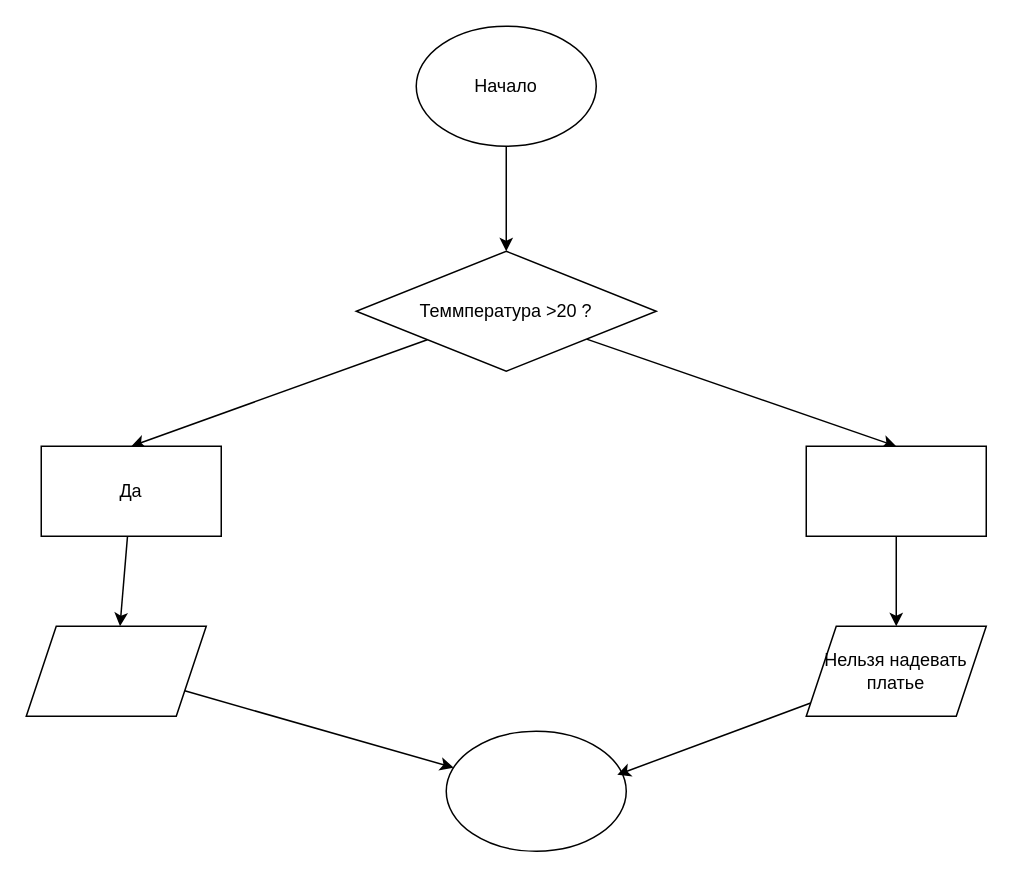
The diagram is 1013 pixels wide and 878 high, and some of its shapes have lost their labels. The centre of each missing label's shape, as x and y in pixels:
"можно надеть платье" goes at (115,670).
"Нет" goes at (895,490).
